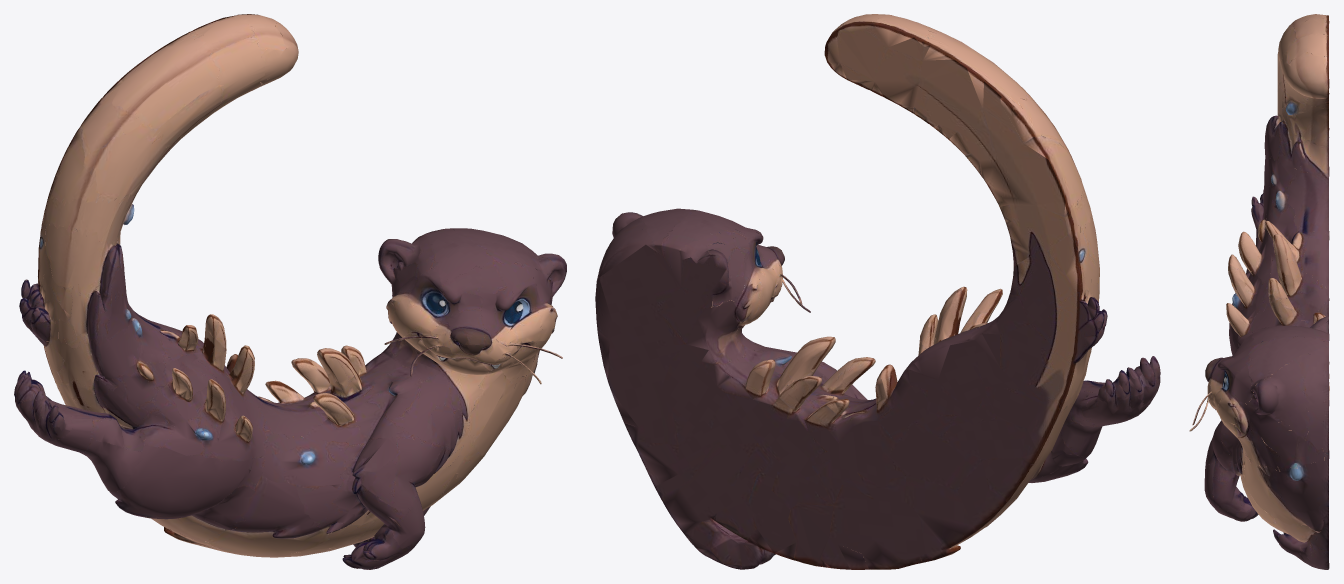
3 views of the same model, side by side, from view 1: azimuth 30°, elevation 25°; view 2: azimuth 150°, elevation 25°; view 3: azimuth 270°, elevation 25° (orthographic). The views are drawn at different scales.
Visible parts, largest first — view 1: Mesh_0; view 2: Mesh_0; view 3: Mesh_0.
Part boxes in pixels (x1,y1,x2,y2): Mesh_0: (14,14,566,569); Mesh_0: (595,14,1160,569); Mesh_0: (1189,14,1329,569).
Bounding box in the file's own units: 1.9 × 1.9 × 0.5098.
1 material, 1 textured.
